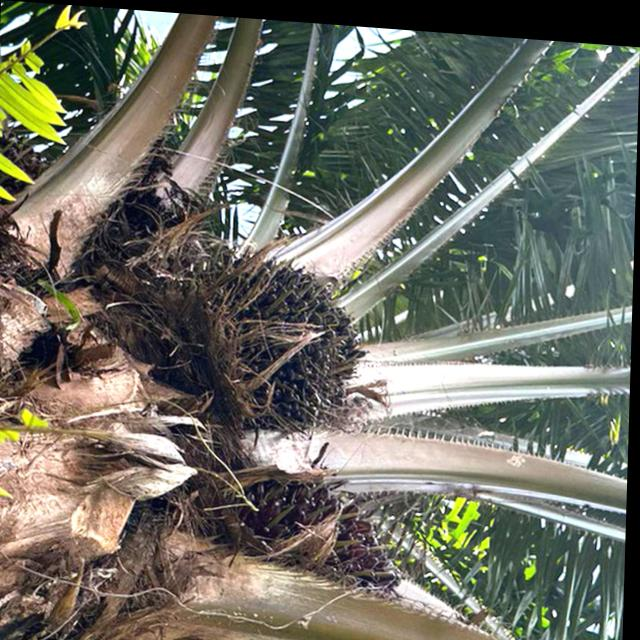unripe: (200, 241, 380, 437)
